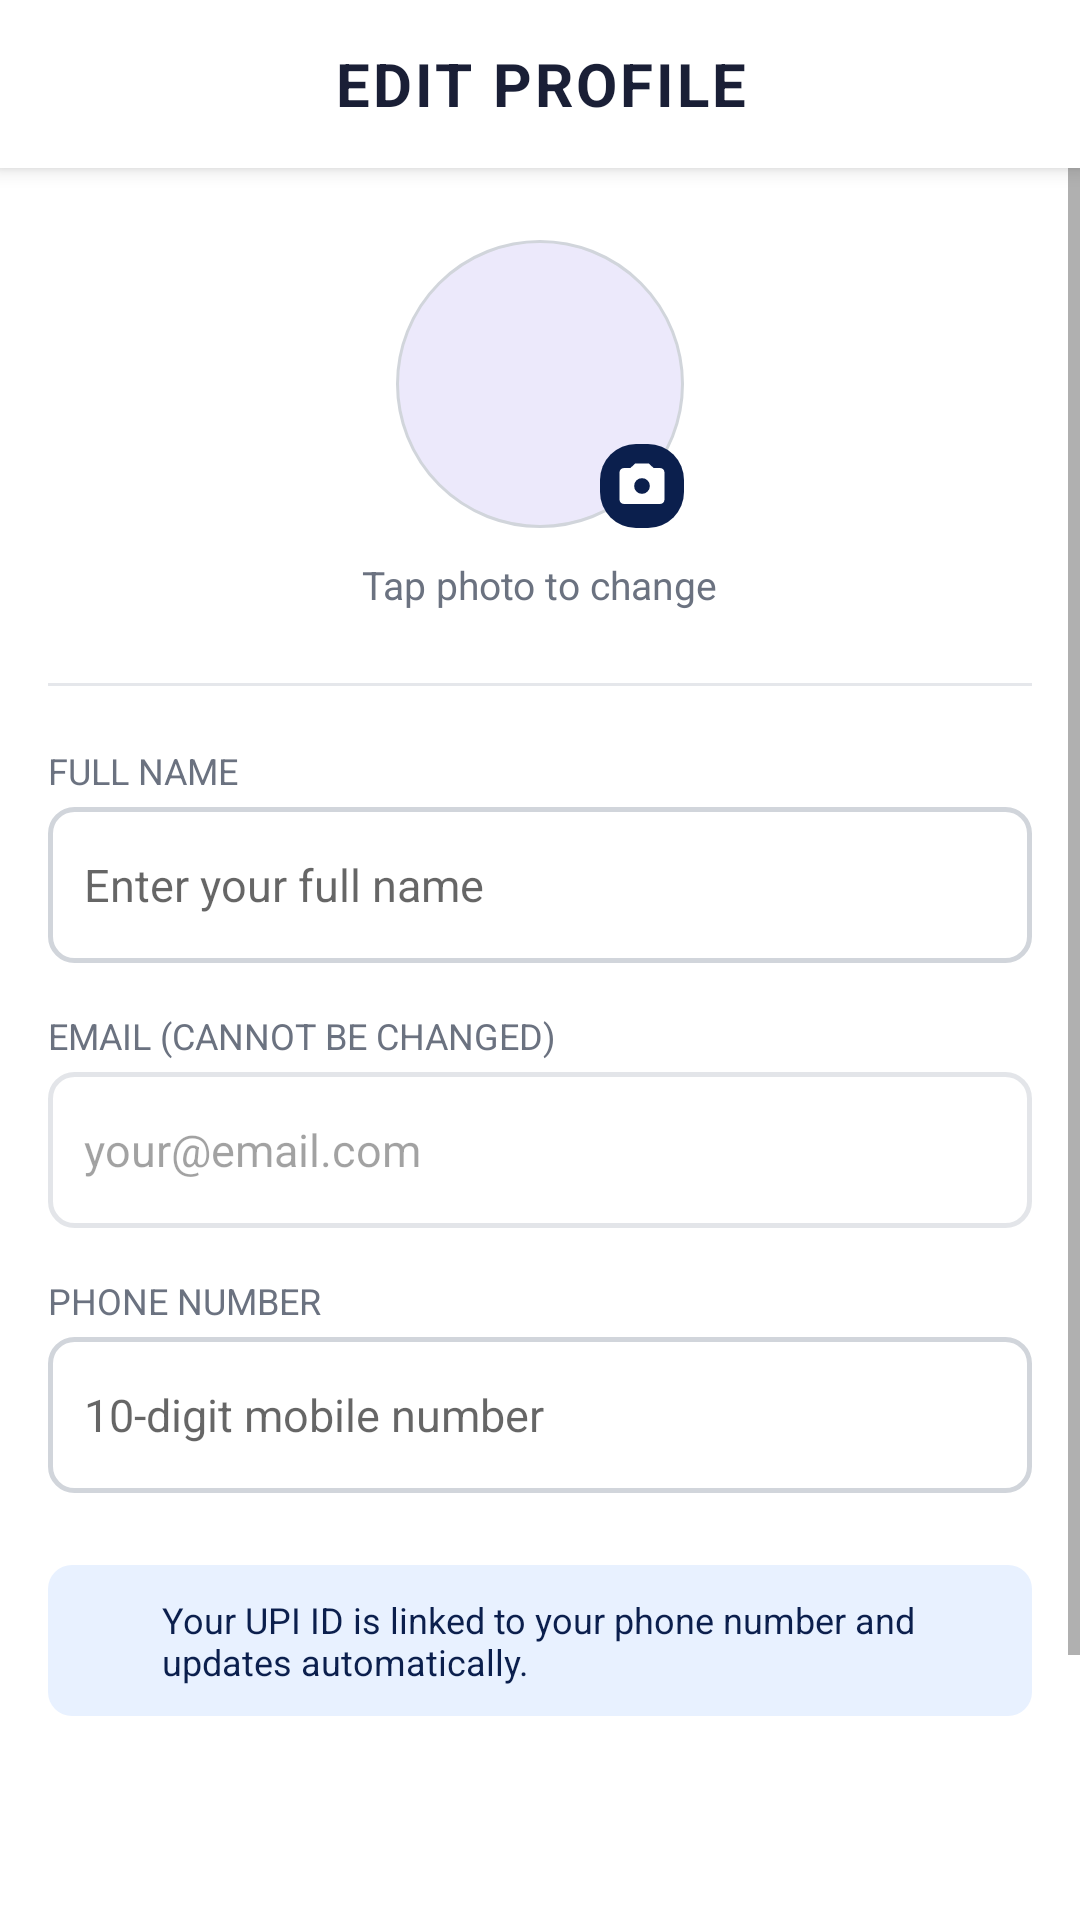

Screen size 1080w x 1920h. Icon name, then its box in pixels as Rect(x1, y1, x2, y2):
Pick photo: Rect(619, 463, 665, 504)
